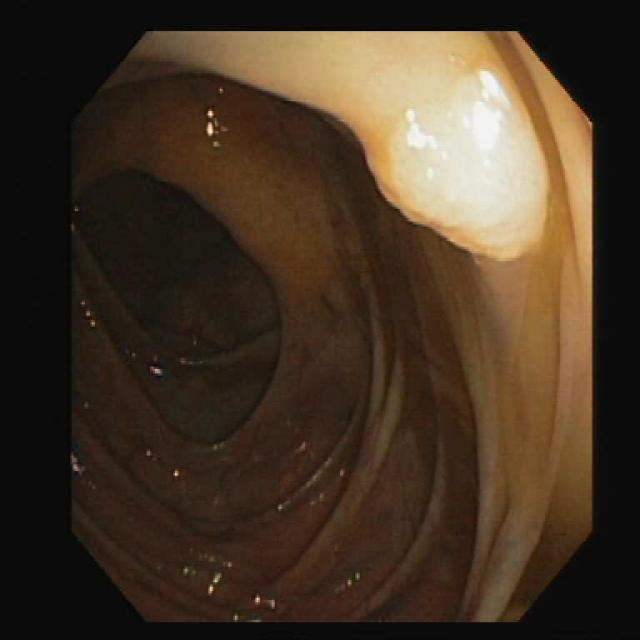tumor: (357, 71, 567, 258)
